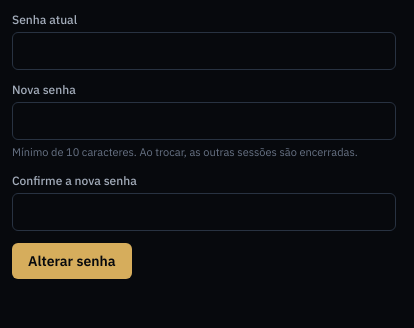
FormSenha › senha atual errada (422) mostra a mensagem e não encerra a sessão
Type "errada-12345" into the password field labelled "Senha atual" at (204, 51), box left=12, top=32, right=396, bottom=70
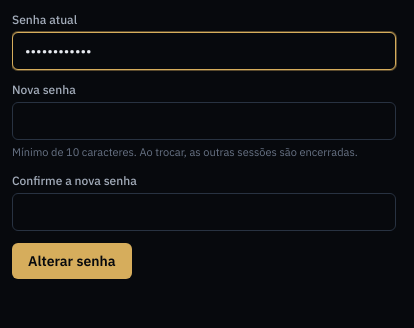
Type "nova-senha-forte" into the password field labelled "Nova senha" at (204, 121), box left=12, top=102, right=396, bottom=140
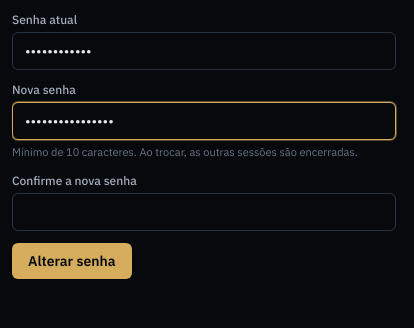
Type "nova-senha-forte" into the password field labelled "Confirme a nova senha" at (204, 212), box left=12, top=192, right=396, bottom=230
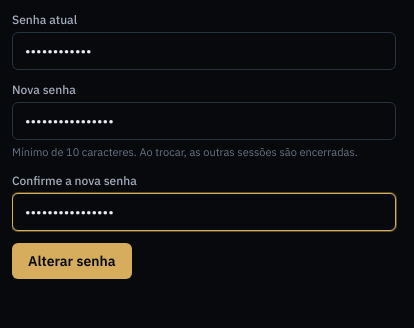
Click the button "Alterar senha" at (72, 260), box left=12, top=242, right=132, bottom=278
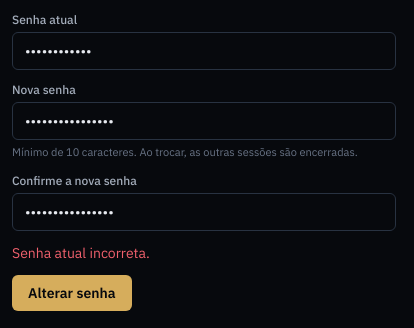
expect the message reads "Senha atual incorreta.": met, box left=12, top=244, right=150, bottom=262
